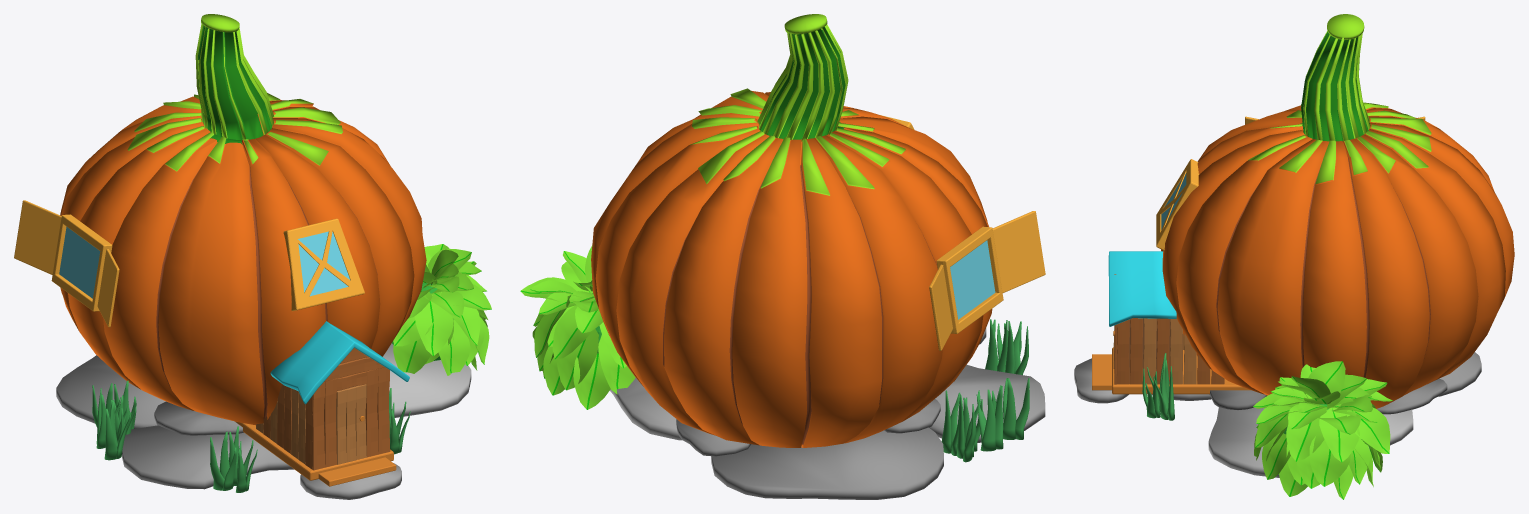
Rendered from PumpkinHouse.fbx.
The picture shows the model from 3 angles, left to right: view 1: azimuth 30°, elevation 25°; view 2: azimuth 150°, elevation 25°; view 3: azimuth 270°, elevation 25°; orthographic projection. The views are drawn at different scales.
Parts seen in each view (by area): view 1: PumpkinHouse; view 2: PumpkinHouse; view 3: PumpkinHouse.
Part boxes in pixels (<box>): PumpkinHouse: <box>14,14,491,499</box>; PumpkinHouse: <box>520,14,1045,499</box>; PumpkinHouse: <box>1074,14,1514,499</box>.
Bounding box in the file's own units: 42.16 × 37.12 × 40.08.
